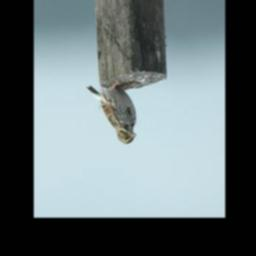Sparrow: (86, 80, 138, 145)
